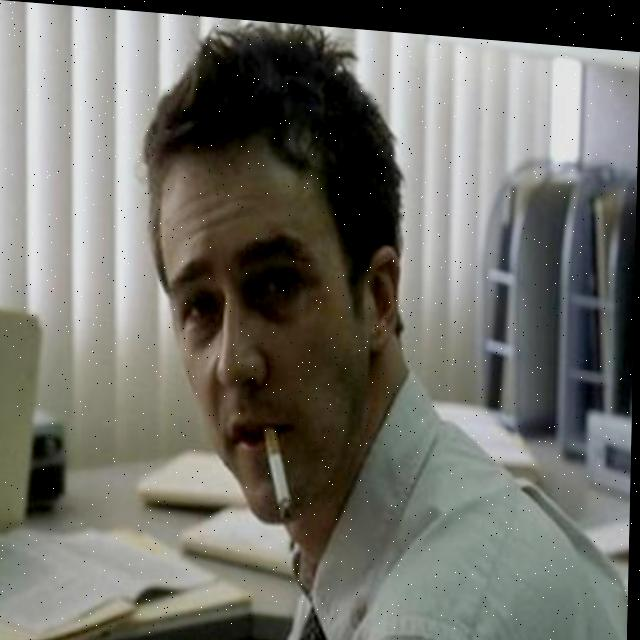cigarette: (265, 422, 297, 519)
